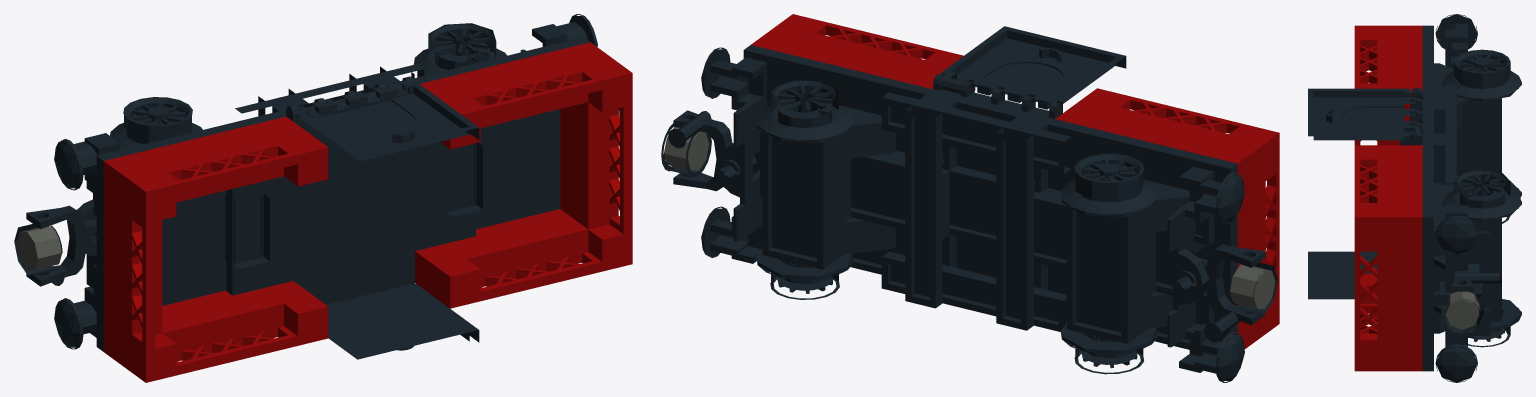
The model's file is wagon.glb.
3 renders of one model, left to right at view 1: azimuth 30°, elevation 25°; view 2: azimuth 150°, elevation 25°; view 3: azimuth 270°, elevation 25°, orthographic. The views are drawn at different scales.
Bounding box in the file's own units: 155 × 54.38 × 60.4.
